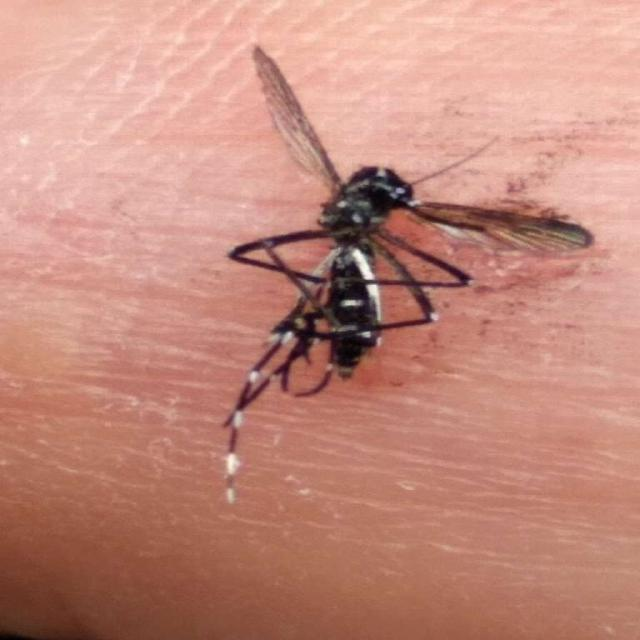albopictus: (183, 36, 549, 505)
